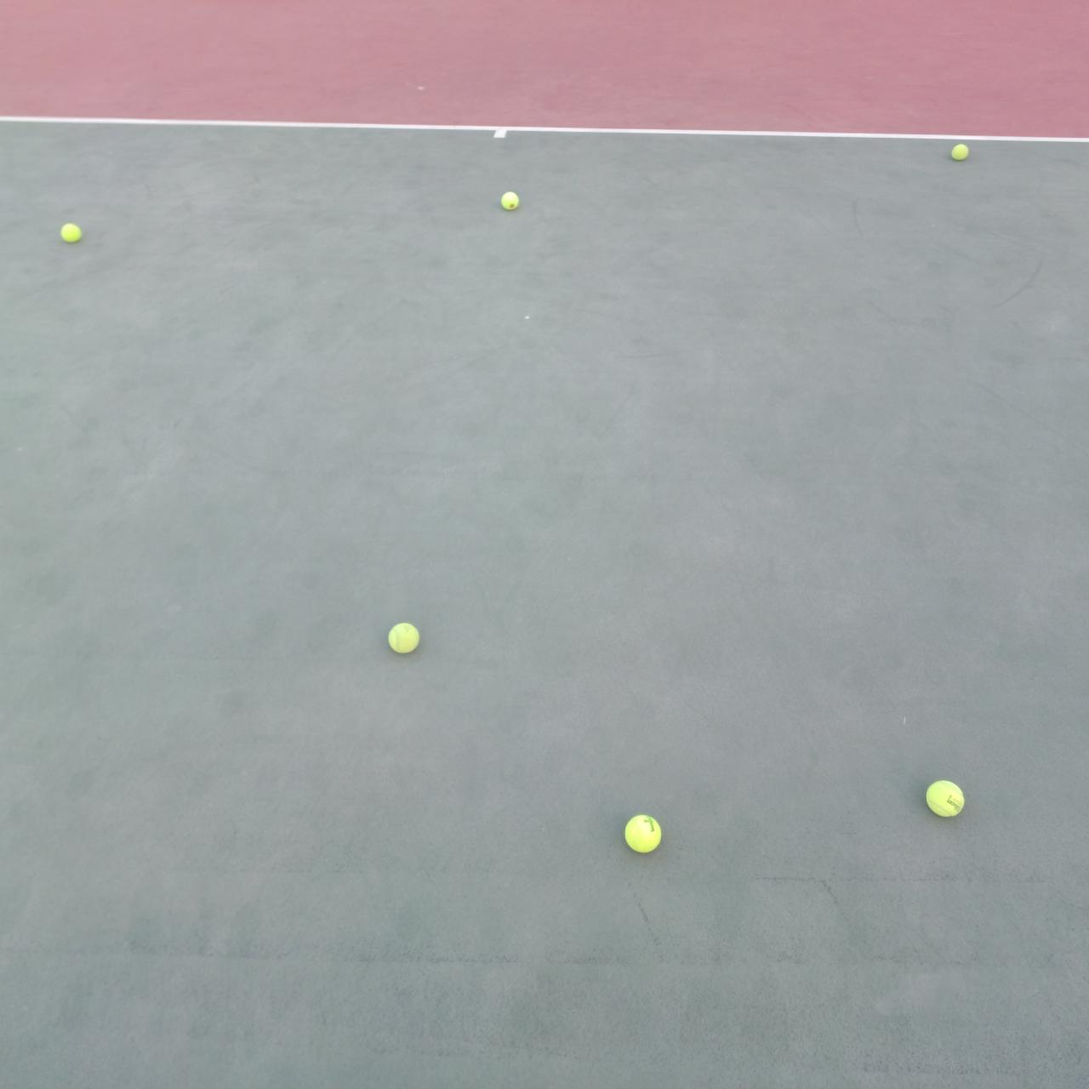tennis-ball: (924, 777, 966, 818), (623, 812, 663, 853), (386, 619, 420, 654), (59, 220, 83, 243), (499, 190, 520, 211), (950, 143, 969, 163)
